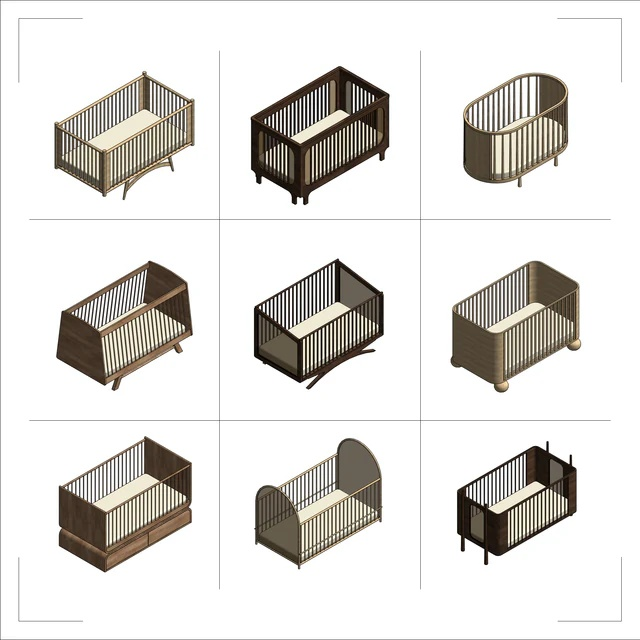crib: (251, 67, 388, 203), (59, 437, 191, 570), (55, 72, 194, 198), (57, 262, 191, 389), (451, 261, 580, 391), (254, 260, 383, 387), (255, 439, 381, 567), (457, 442, 576, 563), (463, 73, 567, 185)
